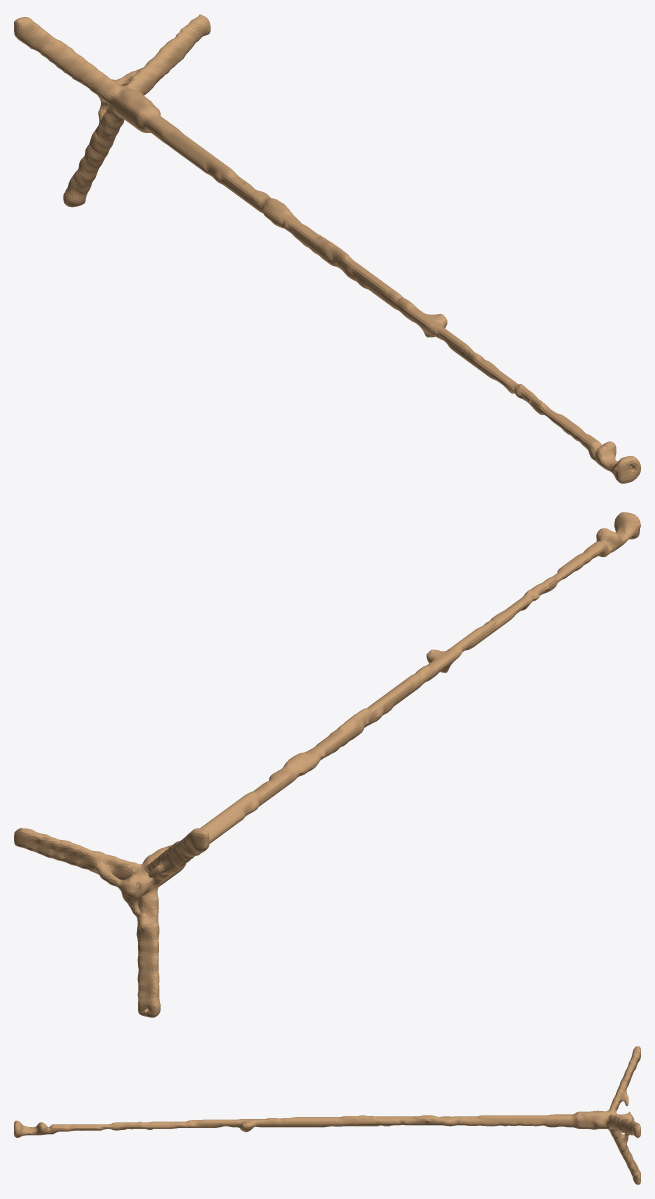
3 views of the same model, one above another, from view 1: azimuth 30°, elevation 25°; view 2: azimuth 150°, elevation 25°; view 3: azimuth 270°, elevation 25° (orthographic). The views are drawn at different scales.
Visible parts, largest first — view 1: tripod.obj; view 2: tripod.obj; view 3: tripod.obj.
Boxes of the visible parts, x1,y1,x2,y2 form: tripod.obj: (14, 14, 640, 483); tripod.obj: (14, 512, 640, 1017); tripod.obj: (14, 1046, 640, 1184).
Size of the model in its own units: 0.3363 by 0.3314 by 1.56.
